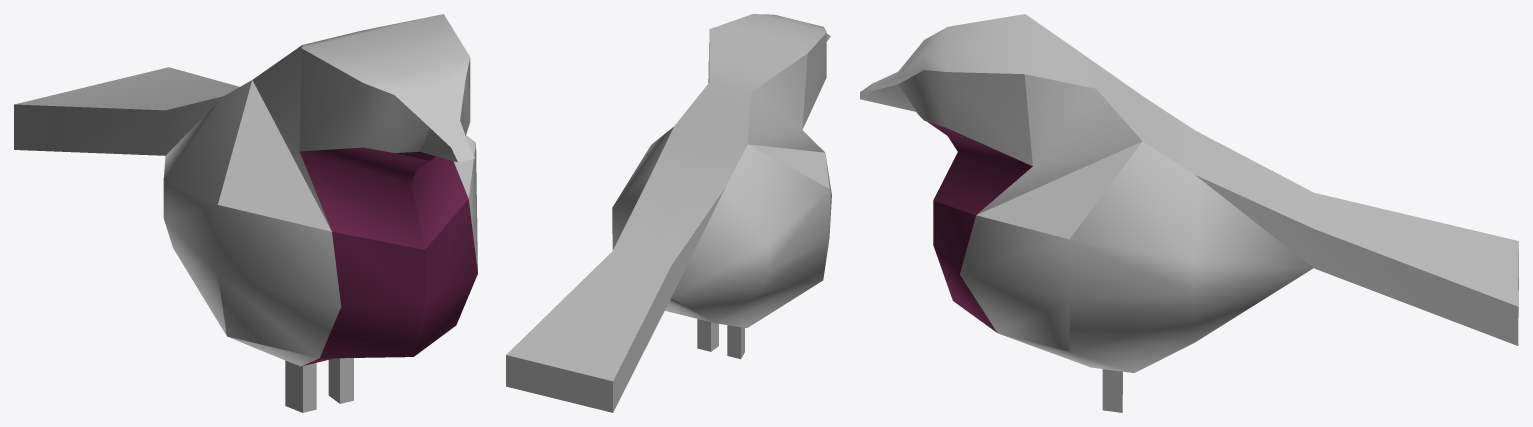
The model's file is bird_1.fbx.
3 renders of one model, left to right at view 1: azimuth 30°, elevation 25°; view 2: azimuth 150°, elevation 25°; view 3: azimuth 270°, elevation 25°, orthographic. The views are drawn at different scales.
Parts seen in each view (by area): view 1: bird_1; view 2: bird_1; view 3: bird_1.
Boxes of the visible parts, x1,y1,x2,y2 form: bird_1: (14,14,477,412); bird_1: (506,14,831,412); bird_1: (860,14,1518,412).
Size of the model in its own units: 9.09 by 13.78 by 23.17.
